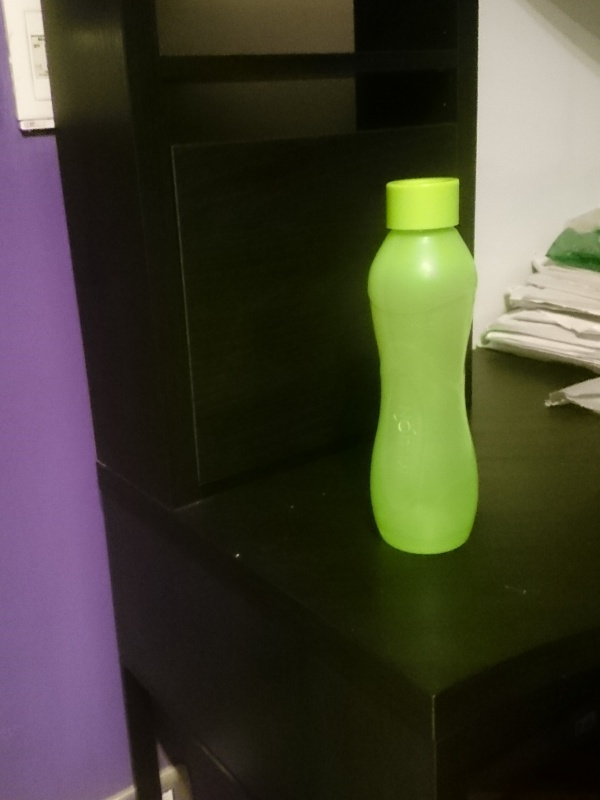my bottle: (368, 177, 475, 559)
